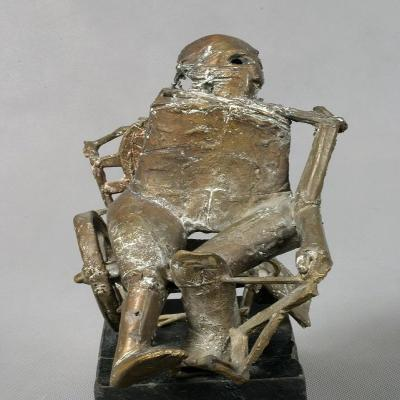sculpture: (74, 34, 346, 400)
